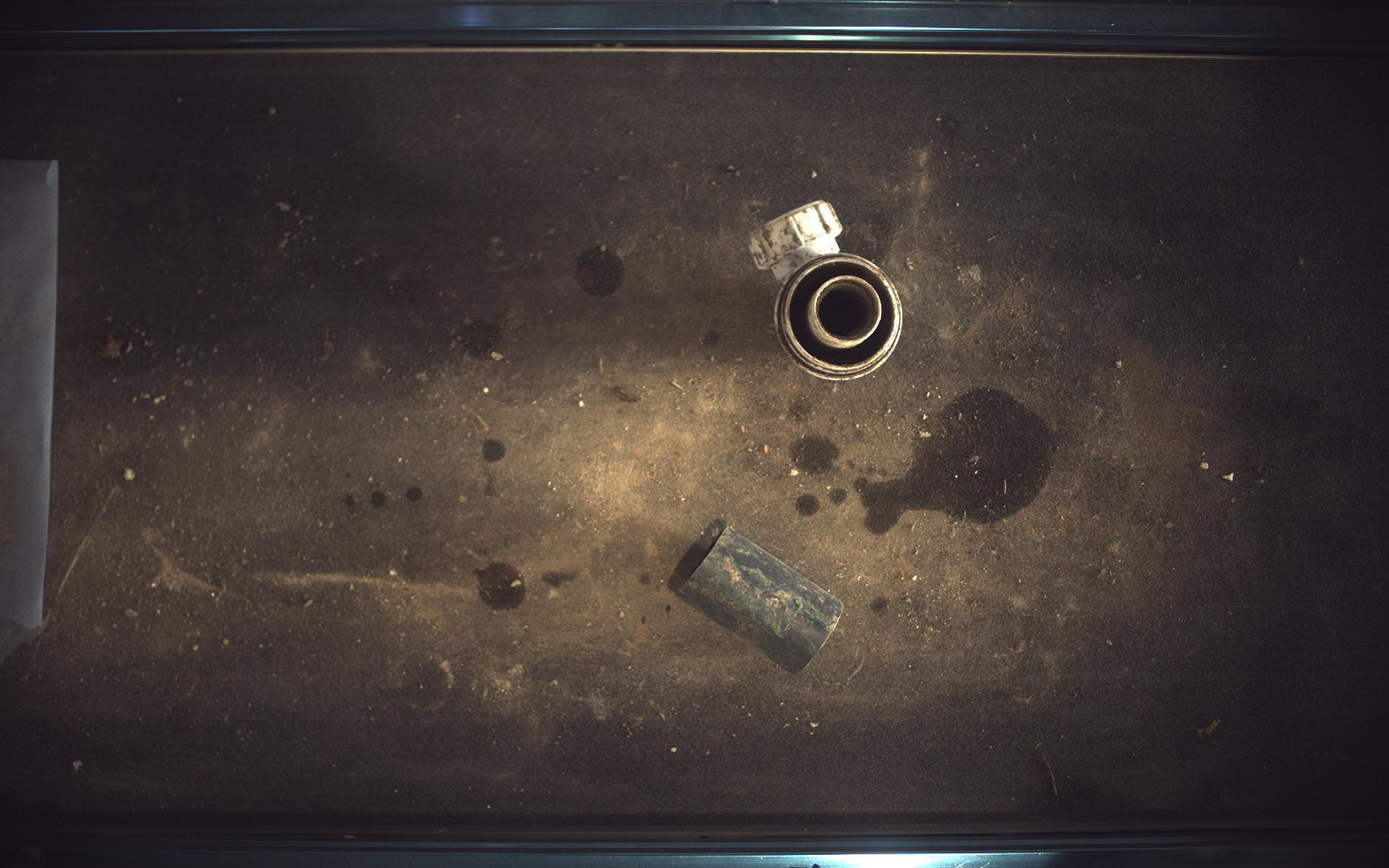pipes: (669, 519, 844, 673)
plastic: (751, 199, 904, 380)
